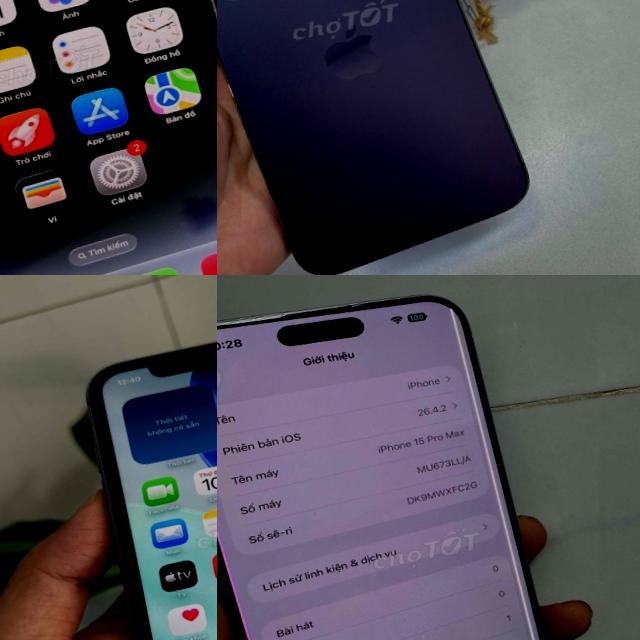screen_defect: (430, 278, 578, 640), (217, 330, 335, 640)
